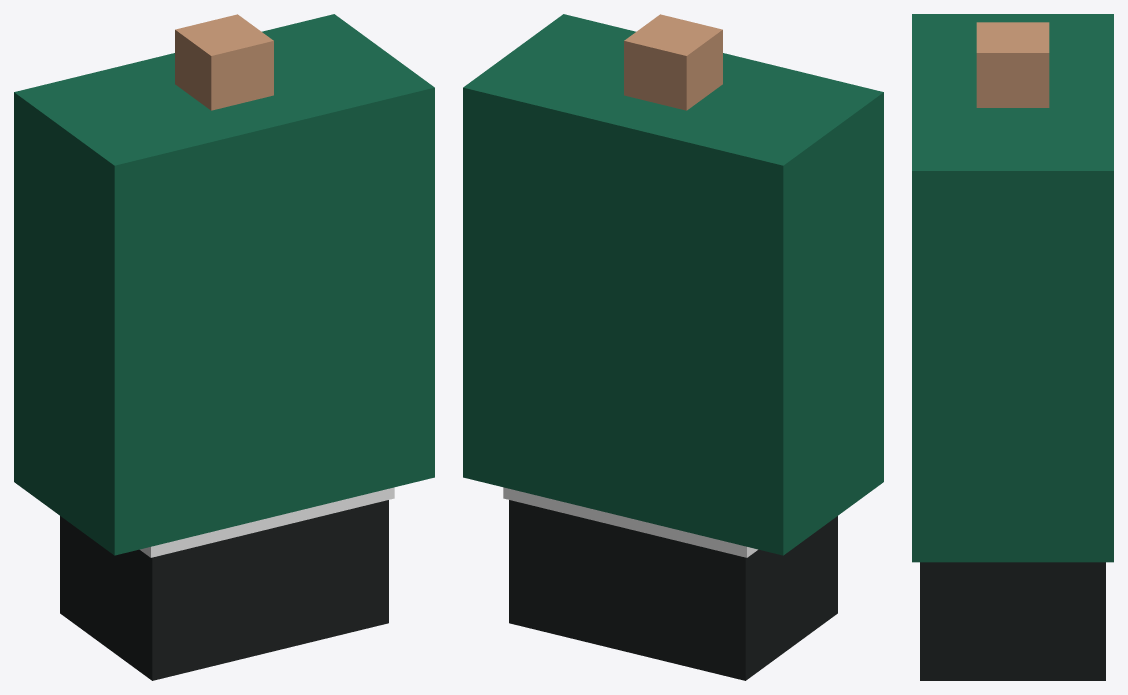
Rendered from Torso.obj.
3 renders of one model, left to right at view 1: azimuth 30°, elevation 25°; view 2: azimuth 150°, elevation 25°; view 3: azimuth 270°, elevation 25°, orthographic.
Parts seen in each view (by area): view 1: Torso; view 2: Torso; view 3: Torso.
Part boxes in pixels (x1,y1,x2,y2): Torso: [14, 14, 434, 680]; Torso: [463, 14, 883, 680]; Torso: [912, 14, 1113, 680].
Bounding box in the file's own units: 0.46 × 0.8 × 0.25.
Materials: 1 (1 with a texture image).
